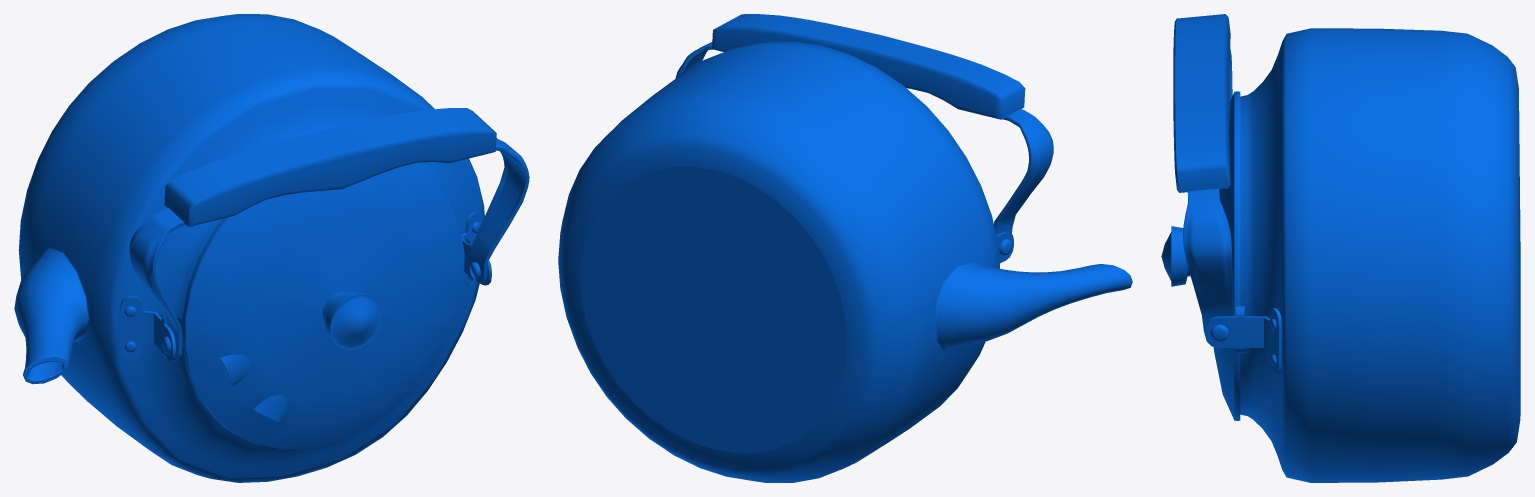
3 renders of one model, left to right at view 1: azimuth 30°, elevation 25°; view 2: azimuth 150°, elevation 25°; view 3: azimuth 270°, elevation 25°, orthographic. The views are drawn at different scales.
Bounding box in the file's own units: 1 × 0.7784 × 0.6175.
